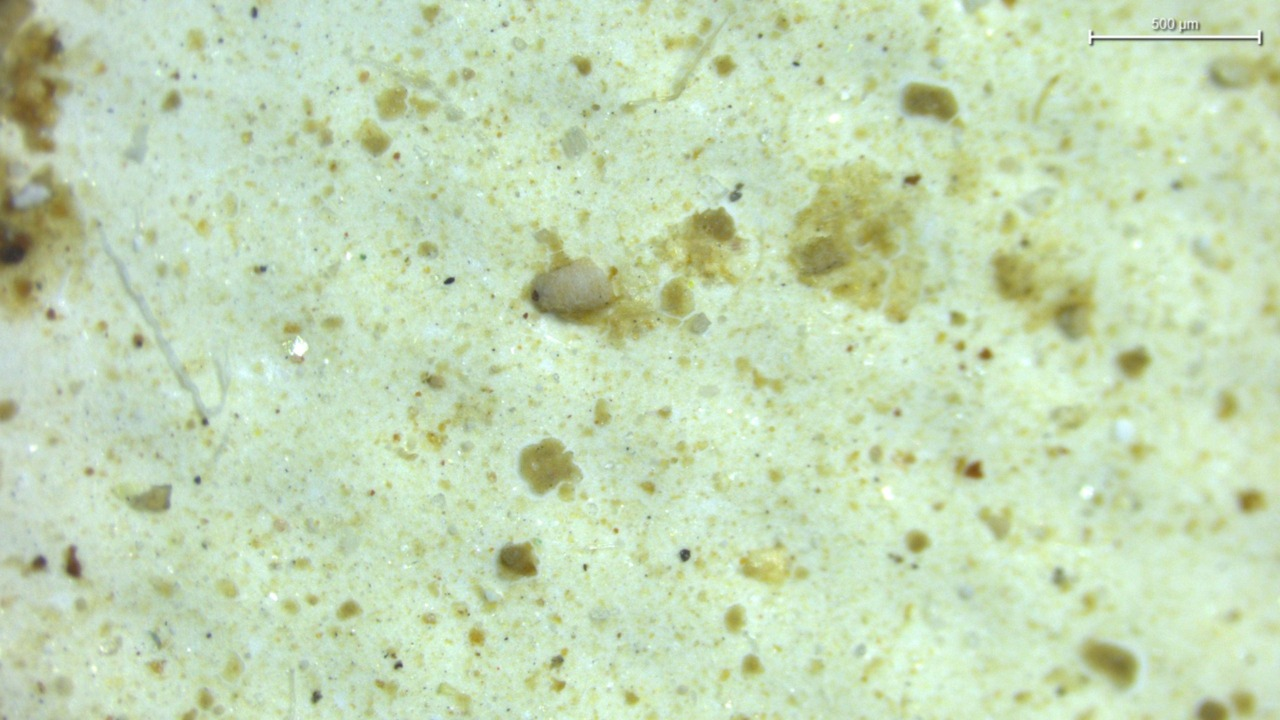microplastic_fragment: (532, 259, 614, 315)
